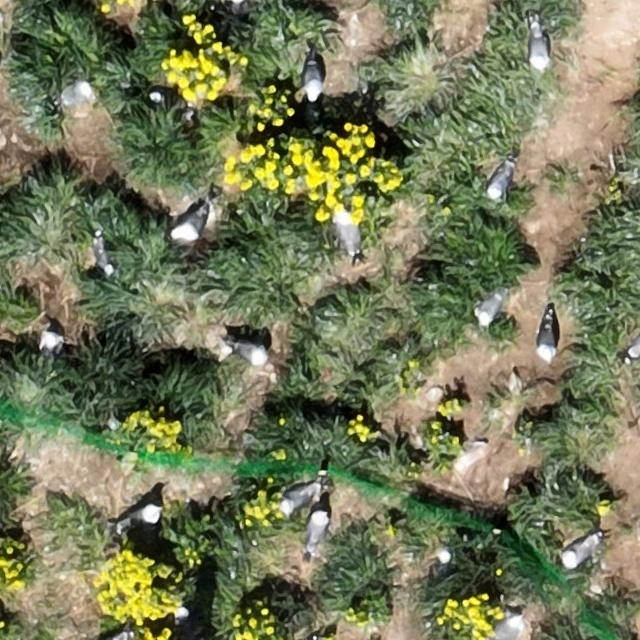umineko: (563, 536, 596, 566), (173, 212, 206, 242), (337, 211, 359, 254), (119, 504, 158, 528), (282, 486, 316, 512), (488, 162, 512, 198), (537, 318, 558, 359), (530, 29, 550, 70), (306, 509, 327, 548), (476, 293, 503, 323), (57, 82, 90, 106), (303, 62, 322, 102), (234, 342, 266, 364), (494, 618, 520, 638), (627, 330, 639, 357)
